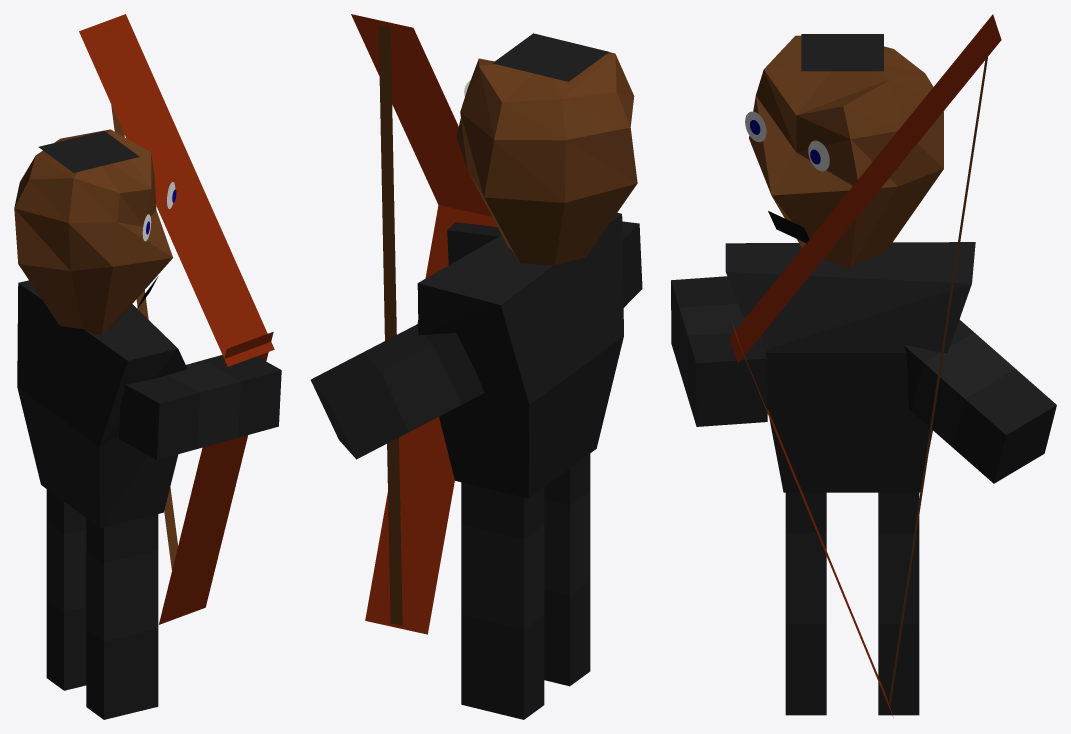
File: heavyarcher2f.obj
3 renders of one model, left to right at view 1: azimuth 30°, elevation 25°; view 2: azimuth 150°, elevation 25°; view 3: azimuth 270°, elevation 25°, orthographic. The views are drawn at different scales.
Visible parts, largest first — view 1: Cube.001, Cube, Plane.002_Plane.003, Cube.004, Cube.003, Plane.001_Plane.002, Cube.005, Plane.004_Plane.001, Plane.003_Plane.004; view 2: Cube.001, Cube, Cube.005, Cube.002, Plane.001_Plane.002, Cube.004, Plane.002_Plane.003, Plane.003_Plane.004, Plane.004_Plane.001, Cube.003; view 3: Cube.001, Cube, Cube.002, Cube.003, Plane.002_Plane.003, Cube.004, Cube.005, Plane.004_Plane.001, Plane.003_Plane.004, Plane.001_Plane.002.
Boxes of the visible parts, x1,y1,x2,y2 form: Cube.001: (17,280,187,527); Cube: (14,129,172,335); Plane.002_Plane.003: (79,14,274,366); Cube.004: (86,514,158,719); Cube.003: (119,355,281,459); Plane.001_Plane.002: (159,332,273,624); Cube.005: (46,489,86,690); Plane.004_Plane.001: (38,131,139,172); Plane.003_Plane.004: (102,30,177,570); Cube.001: (417,212,623,498); Cube: (456,52,637,265); Cube.005: (461,482,544,719); Cube.002: (311,324,484,459); Plane.001_Plane.002: (365,205,497,634); Cube.004: (544,454,590,686); Plane.002_Plane.003: (351,14,491,216); Plane.003_Plane.004: (378,25,402,625); Plane.004_Plane.001: (492,33,608,81); Cube.003: (447,221,642,307); Cube.001: (725,242,975,492); Cube: (749,35,943,268); Cube.002: (903,319,1056,483); Cube.003: (671,276,767,426); Plane.002_Plane.003: (729,14,1001,363); Cube.004: (785,492,826,715); Cube.005: (878,492,919,715); Plane.004_Plane.001: (801,34,883,71); Plane.003_Plane.004: (889,33,990,705); Plane.001_Plane.002: (730,319,893,717).
Size of the model in its own units: 2.42 by 6.6 by 3.26.
